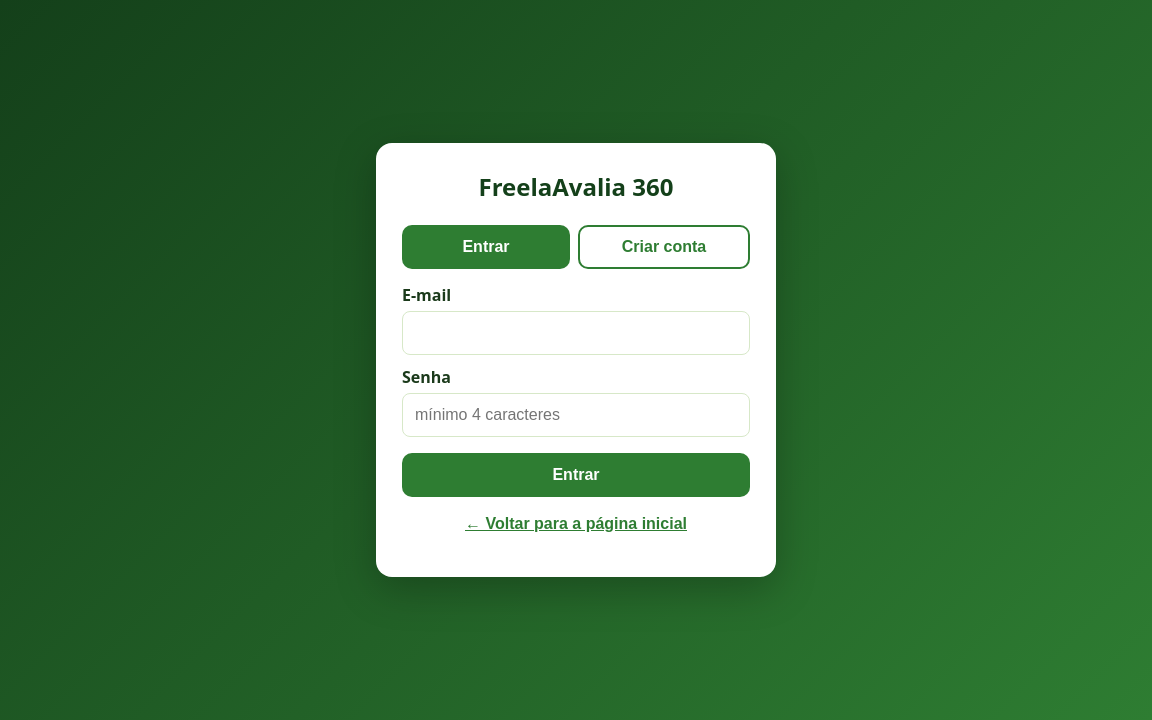
Test case: @interface Auth › mostra a mensagem de erro quando a API rejeita o login
In the field with test id "input-email": [576, 333] box [402,311,750,355], type "x@x.com"
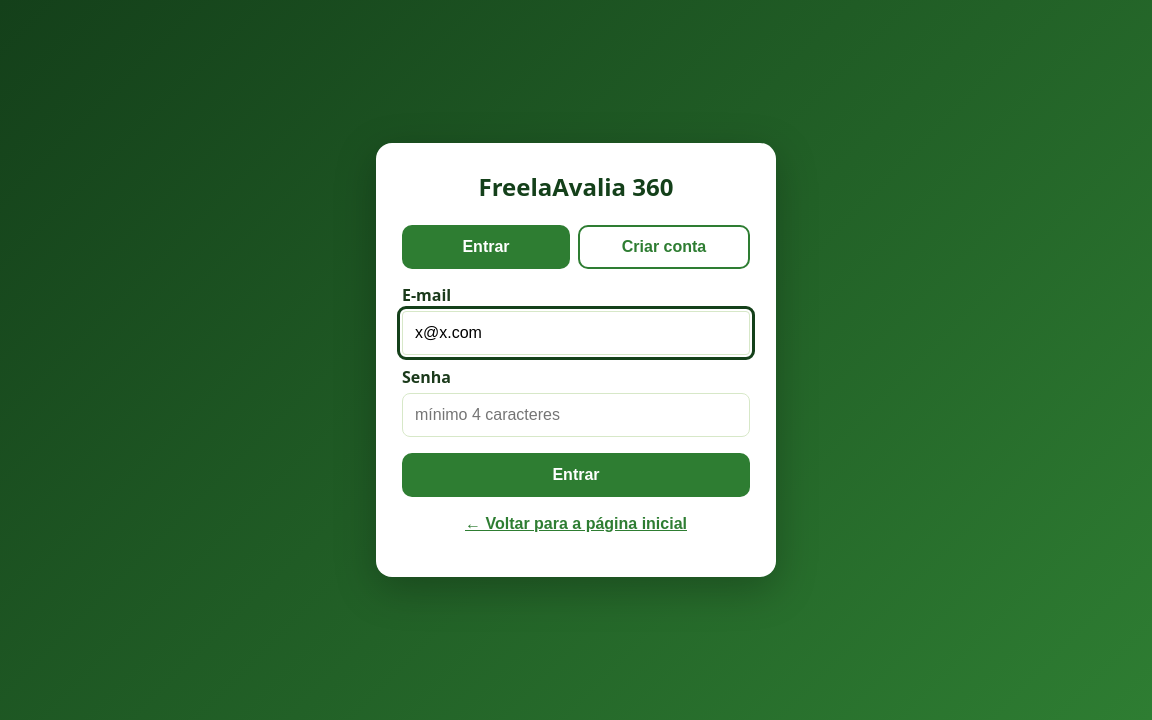
In the password field with test id "input-senha": [576, 415] box [402,393,750,437], type "9999"
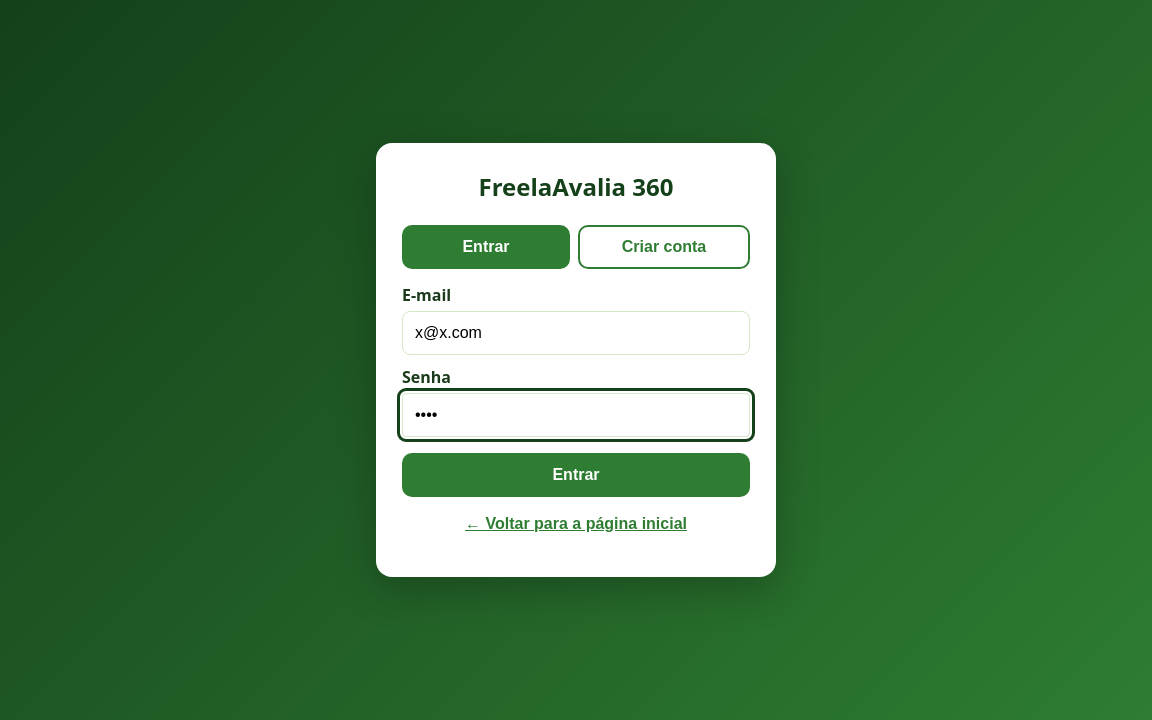
Click the button with test id "enviar-auth": [576, 475] box [402,453,750,497]
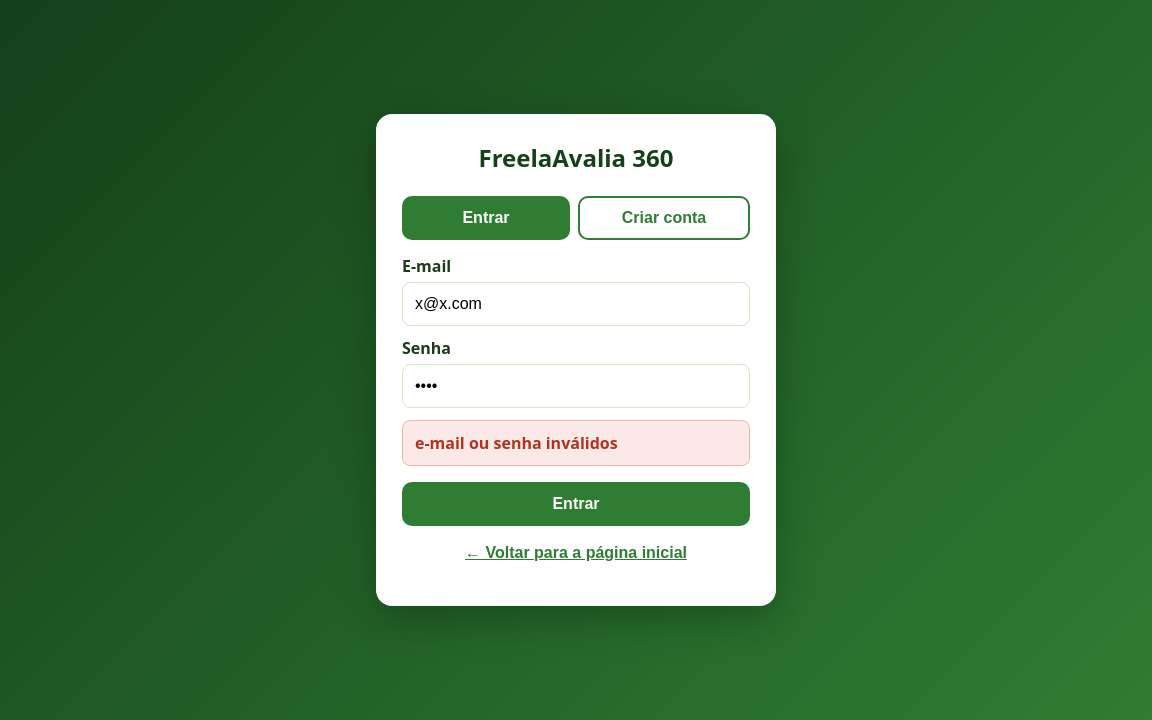
Check: the text "e-mail ou senha inválidos" is shown, box [402,420,750,466]
